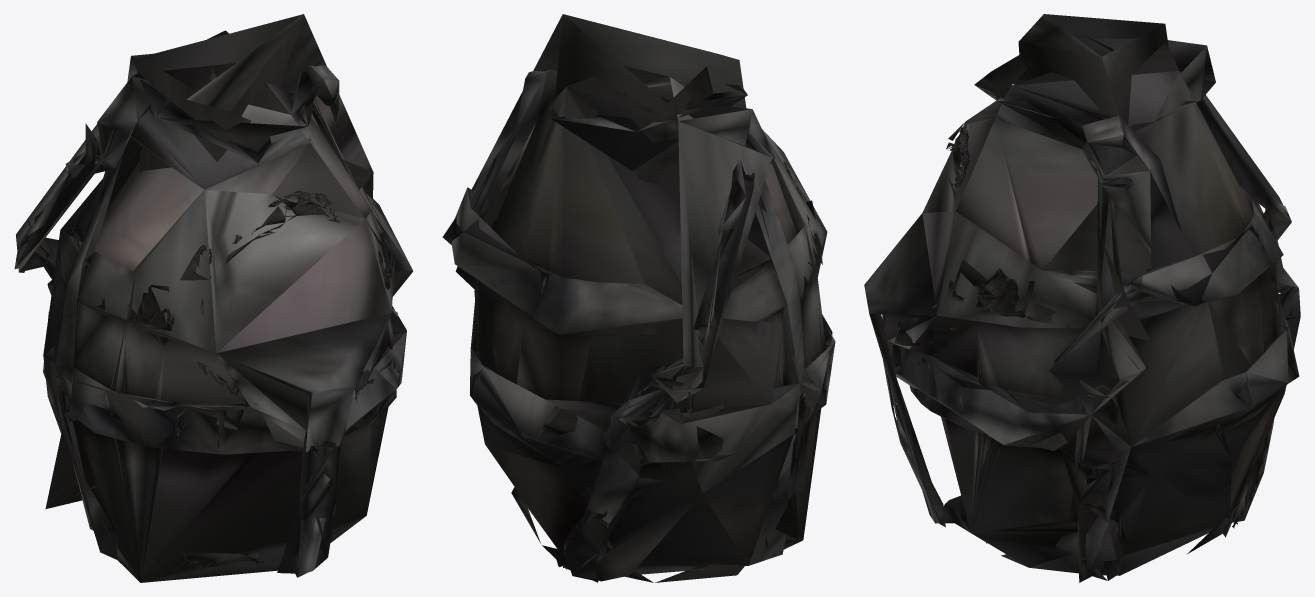
The model's file is frasco_fogo.glb.
The picture shows the model from 3 angles, left to right: view 1: azimuth 30°, elevation 25°; view 2: azimuth 150°, elevation 25°; view 3: azimuth 270°, elevation 25°; orthographic projection. The views are drawn at different scales.
Visible parts, largest first — view 1: geometry_0; view 2: geometry_0; view 3: geometry_0.
Part boxes in pixels (x1=…): geometry_0: x1=14, y1=14, x2=413, y2=582; geometry_0: x1=442, y1=14, x2=835, y2=582; geometry_0: x1=864, y1=14, x2=1300, y2=582.
Bounding box in the file's own units: 0.6984 × 1 × 0.7671.
1 material, 1 textured.
